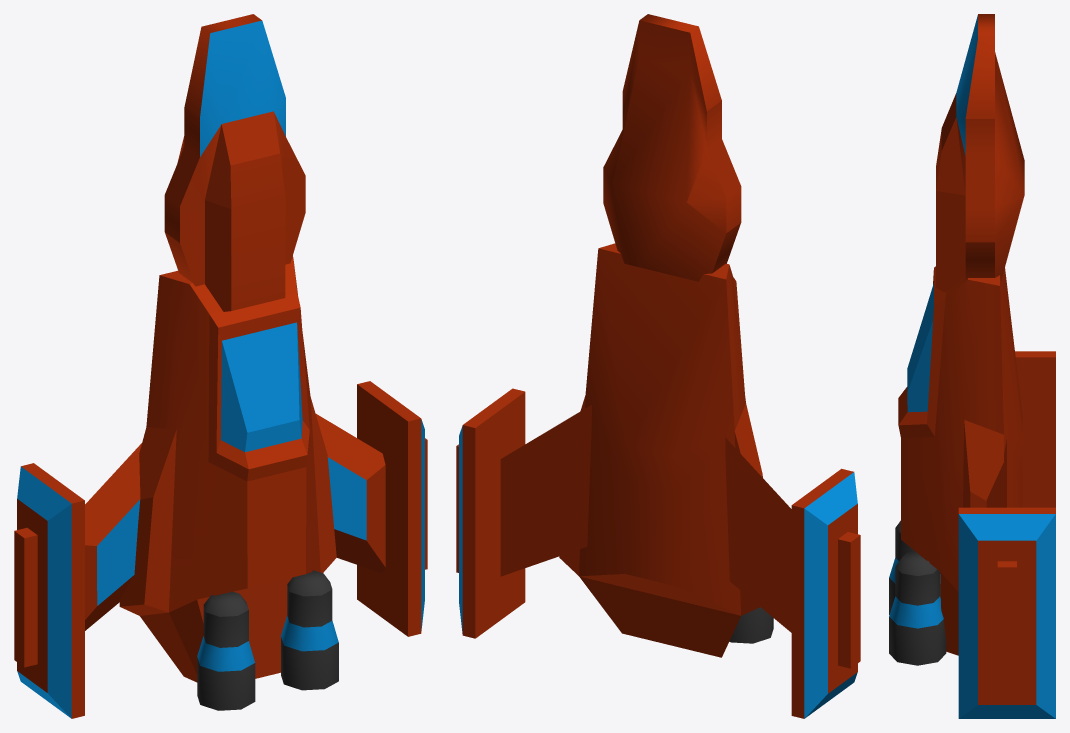
Rendered from Dart.fbx.
3 renders of one model, left to right at view 1: azimuth 30°, elevation 25°; view 2: azimuth 150°, elevation 25°; view 3: azimuth 270°, elevation 25°, orthographic. The views are drawn at different scales.
Visible parts, largest first — view 1: Ship1; view 2: Ship1; view 3: Ship1.
Part boxes in pixels (x1,y1,x2,y2): Ship1: [14, 14, 427, 718]; Ship1: [456, 14, 860, 718]; Ship1: [889, 14, 1055, 718].
Bounding box in the file's own units: 46.86 × 71.29 × 17.62.
